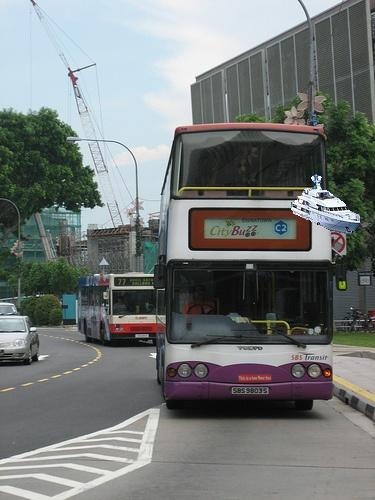tampered: (292, 175, 360, 234)
